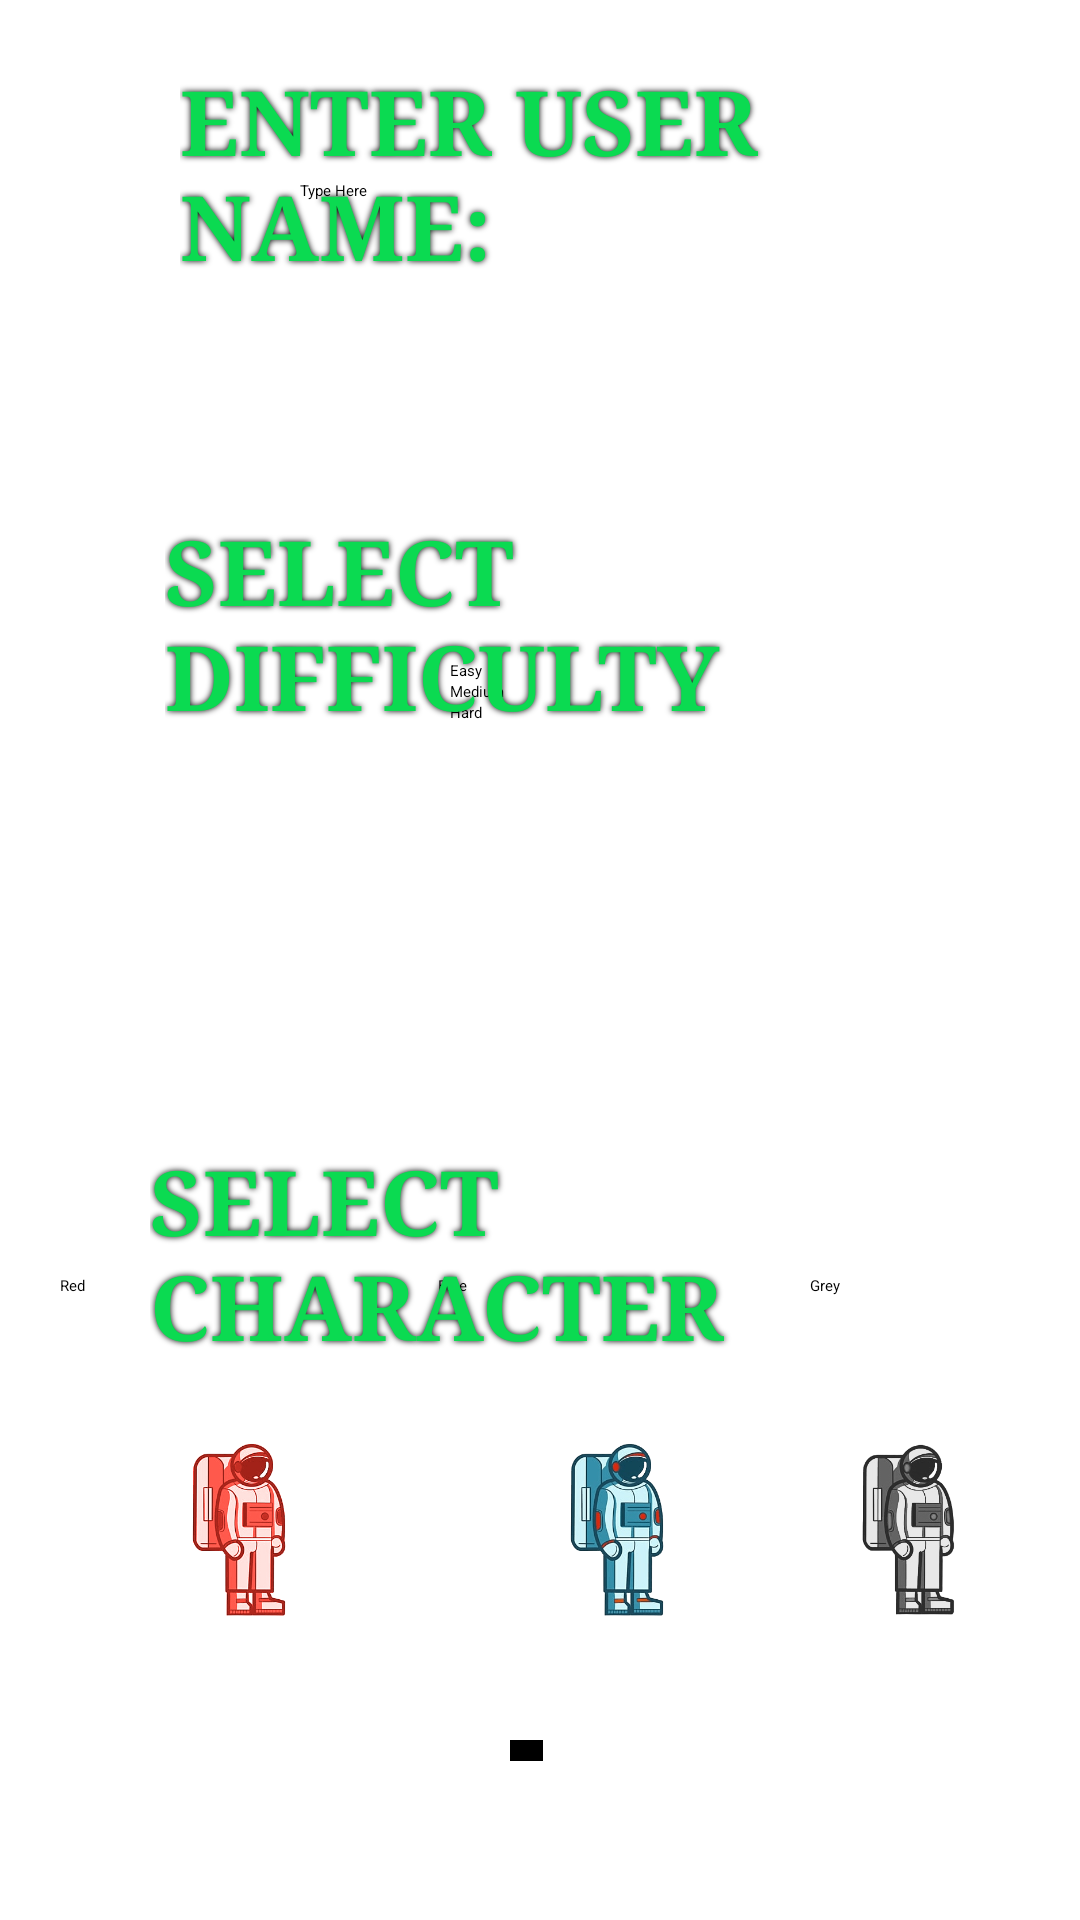

Where to tap for icons on this 1080 × 1920 app screen, as [x,y]:
redastronaut: [239,1530]
